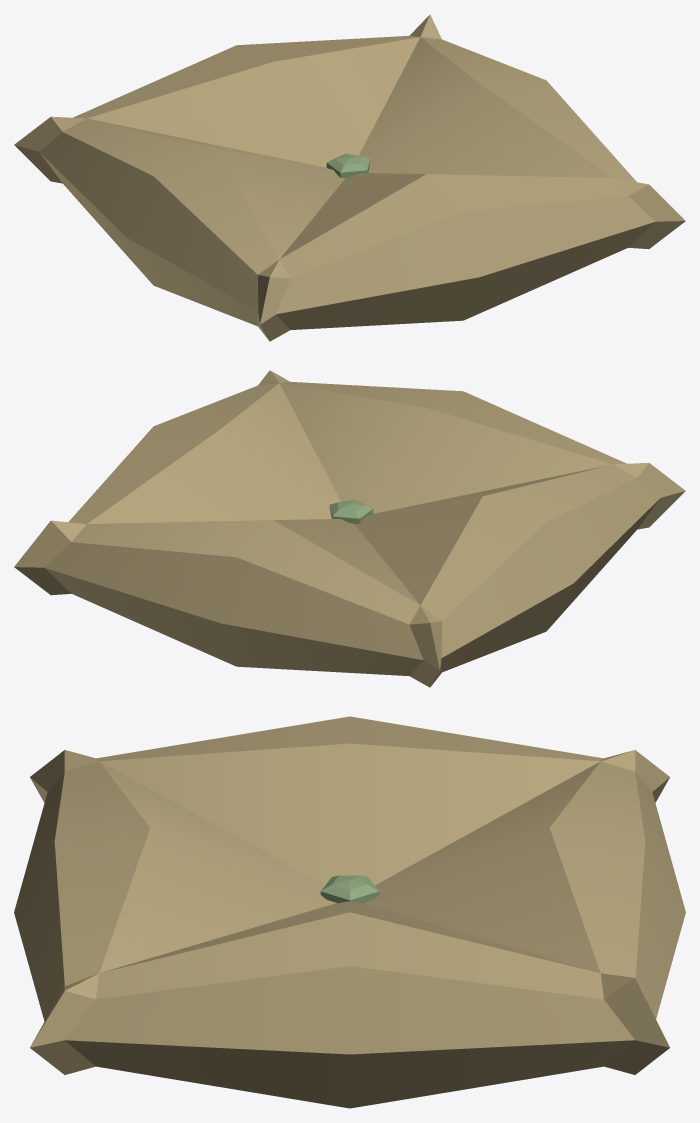
File: Cushion.fbx
The picture shows the model from 3 angles, top to bottom: view 1: azimuth 30°, elevation 25°; view 2: azimuth 150°, elevation 25°; view 3: azimuth 270°, elevation 25°; orthographic projection. The views are drawn at different scales.
Visible parts, largest first — view 1: cushion; view 2: cushion; view 3: cushion.
Part boxes in pixels (x1,y1,x2,y2): cushion: [14, 14, 685, 341]; cushion: [14, 370, 685, 687]; cushion: [14, 716, 685, 1108].
Size of the model in its own units: 147 by 40.84 by 147.
